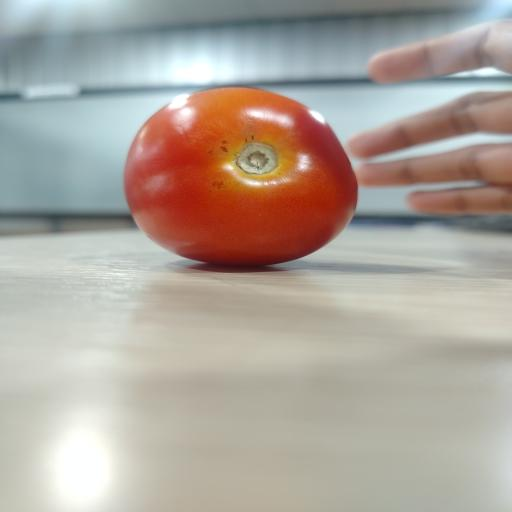ripe: (124, 88, 357, 265)
